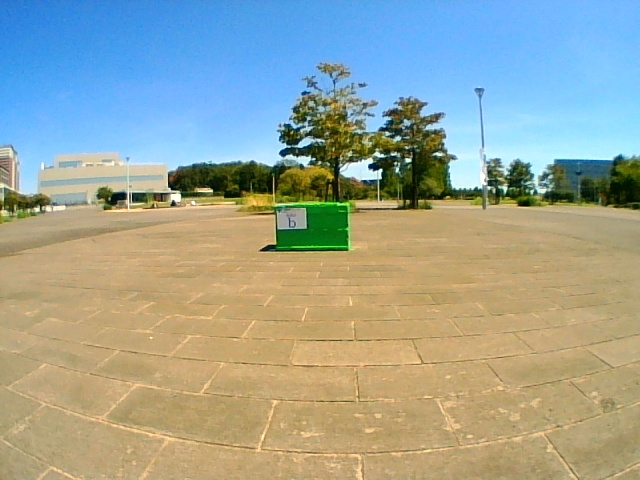green_box: (275, 204, 348, 249)
tag_b: (277, 208, 305, 228)
